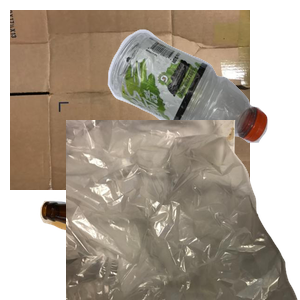cardboard: (10, 10, 250, 190)
glass: (37, 198, 236, 300)
plastic: (105, 27, 300, 162)
trash: (66, 120, 300, 300)
